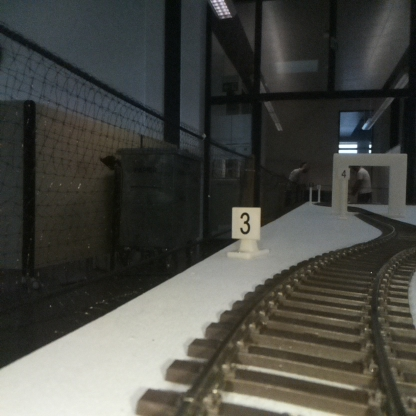white-stop-3: (232, 207, 260, 256)
